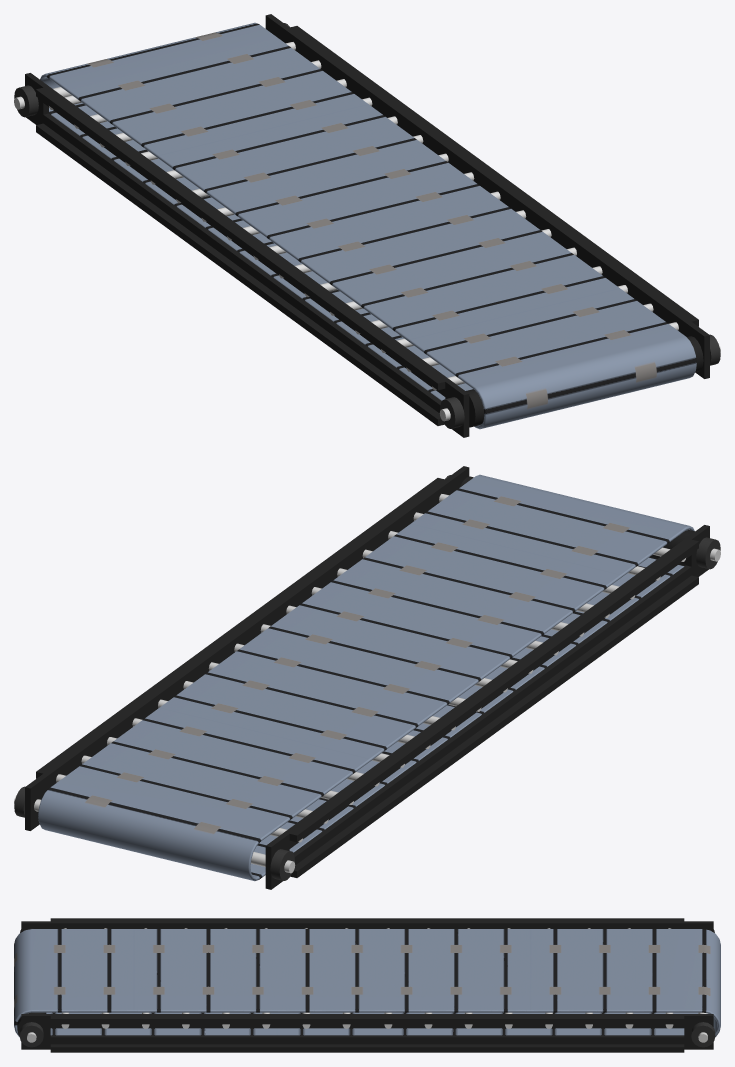
The model's file is platform_012.fbx.
3 views of the same model, one above another, from view 1: azimuth 30°, elevation 25°; view 2: azimuth 150°, elevation 25°; view 3: azimuth 270°, elevation 25° (orthographic). The views are drawn at different scales.
Parts seen in each view (by area): view 1: platform_012; view 2: platform_012; view 3: platform_012.
Part boxes in pixels (x1,y1,x2,y2): platform_012: (14, 14, 720, 437); platform_012: (14, 466, 720, 889); platform_012: (14, 918, 720, 1052).
Bounding box in the file's own units: 1559 × 4400 × 231.
